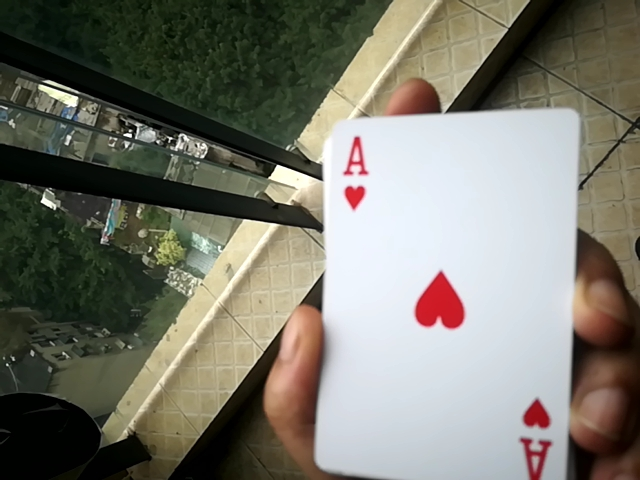hx a: (311, 117, 589, 480)
